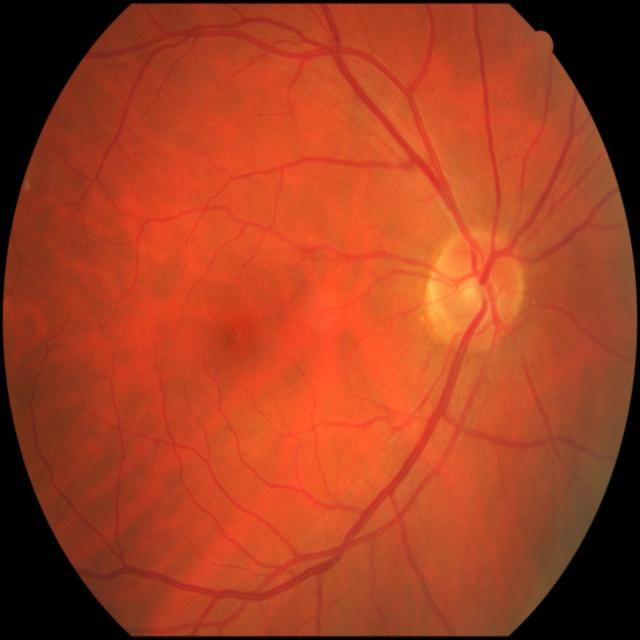OC: (458, 277, 478, 299)
OD: (426, 232, 524, 349)
